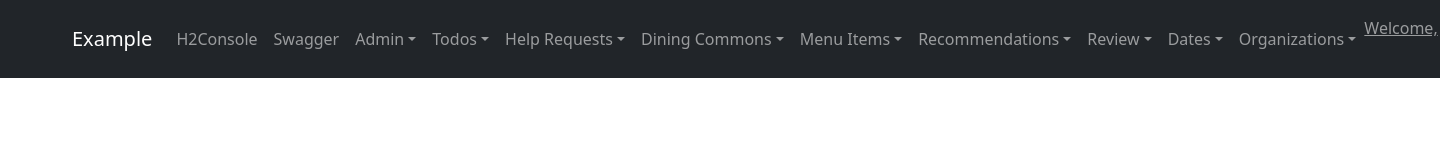
Test: AppNavbar tests › renders the ucsbdates menu correctly for a user
This screenshot has width=1452, height=160.
Expected: the element with test id "appnavbar-ucsbdates-dropdown" is shown, 1168,28 -> 1211,50
Click the button "Dates" at x=1195, y=39, box 1160,19 -> 1231,59
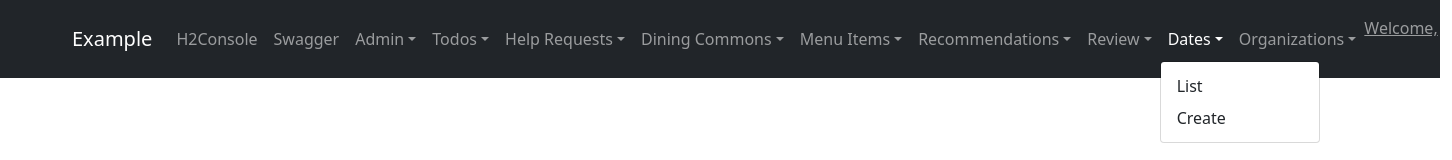
Expected: the link with test id "appnavbar-ucsbdates-list" is shown, 1177,75 -> 1203,97
